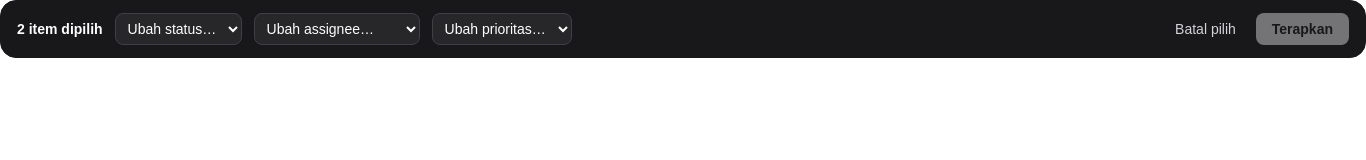
Scenario: BulkToolbar › "Terapkan" is disabled until a change is selected
Expected: the button "Terapkan" is disabled, [1256,13,1349,45]
Select "Closed" in the 1st dropdown showing "Ubah status…" at (178, 29), box [115,13,242,45]
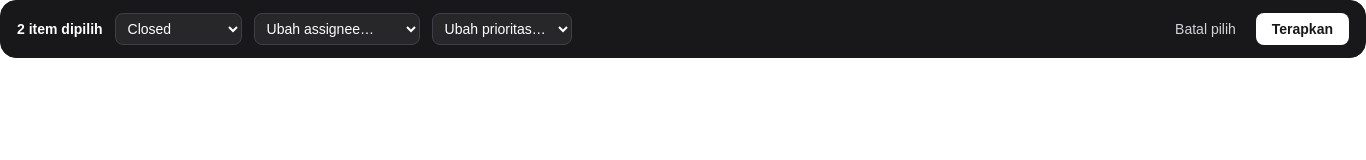
Expected: the button "Terapkan" is enabled, [1256,13,1349,45]
